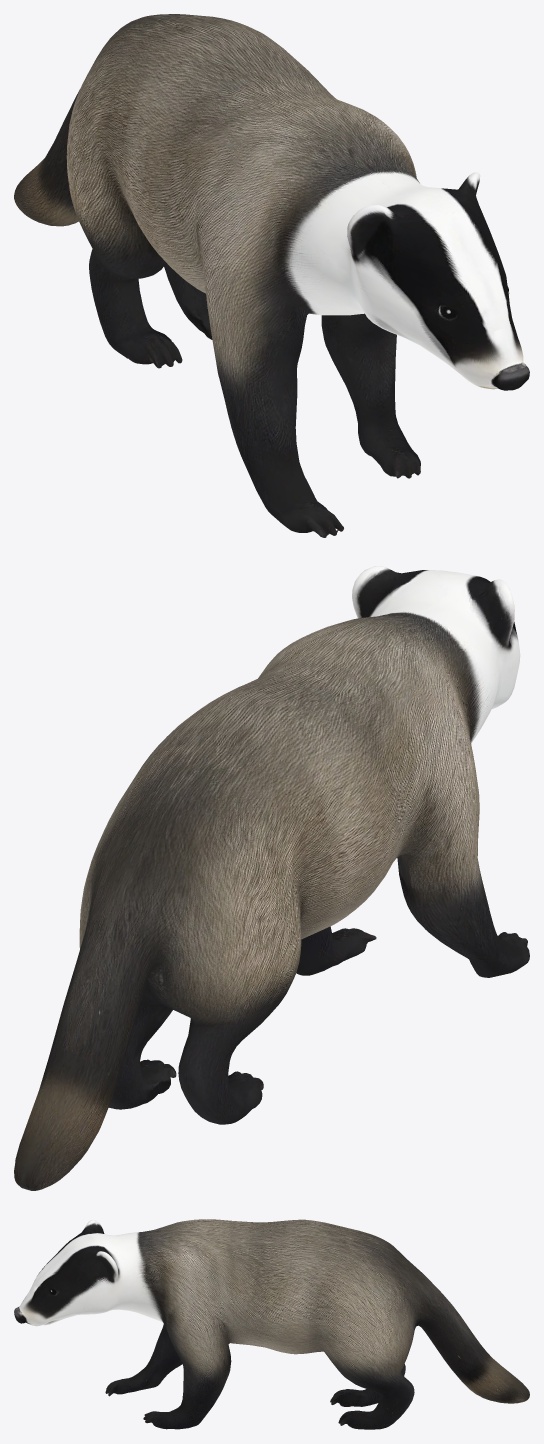
File: animal-das-badger.glb
3 views of the same model, one above another, from view 1: azimuth 30°, elevation 25°; view 2: azimuth 150°, elevation 25°; view 3: azimuth 270°, elevation 25° (orthographic). The views are drawn at different scales.
Size of the model in its own units: 0.4695 by 0.773 by 1.91.
1 material, 1 textured.
